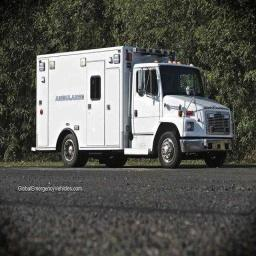Ambulance: (32, 46, 232, 167)
